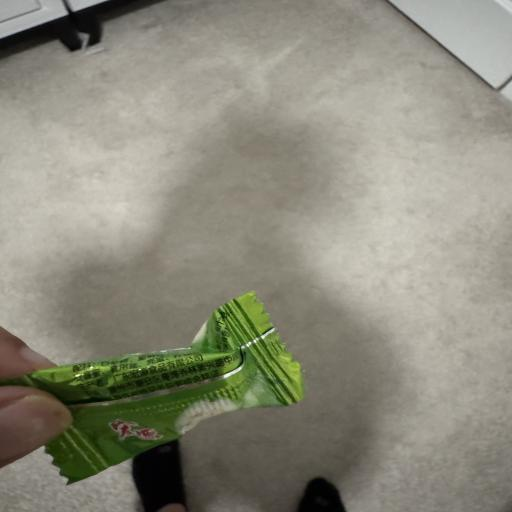chocolate: (0, 293, 303, 483)
